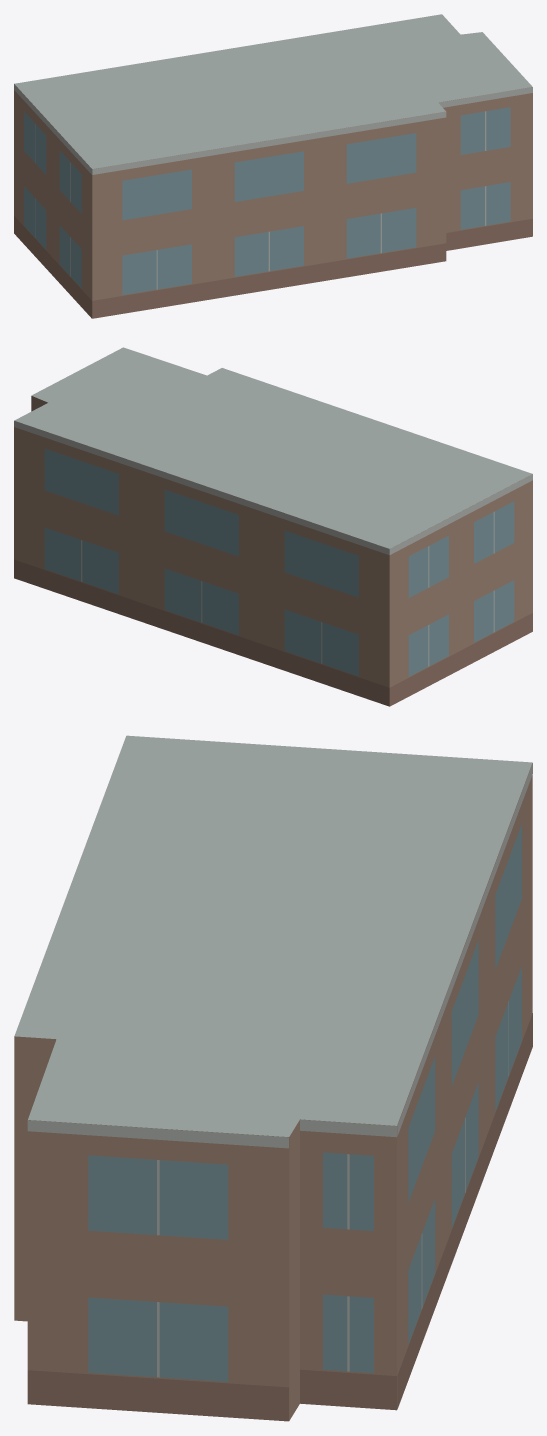
File: survey-upis-32801118.glb
3 views of the same model, one above another, from view 1: azimuth 30°, elevation 25°; view 2: azimuth 150°, elevation 25°; view 3: azimuth 270°, elevation 25° (orthographic). The views are drawn at different scales.
Visible parts, largest first — view 1: survey-upis-32801118.tmp; view 2: survey-upis-32801118.tmp; view 3: survey-upis-32801118.tmp.
Boxes of the visible parts, x1=… form: survey-upis-32801118.tmp: x1=14, y1=14, x2=532, y2=318; survey-upis-32801118.tmp: x1=14, y1=347, x2=532, y2=706; survey-upis-32801118.tmp: x1=14, y1=735, x2=532, y2=1421.
Size of the model in its own units: 18.49 by 6.1 by 10.1.
